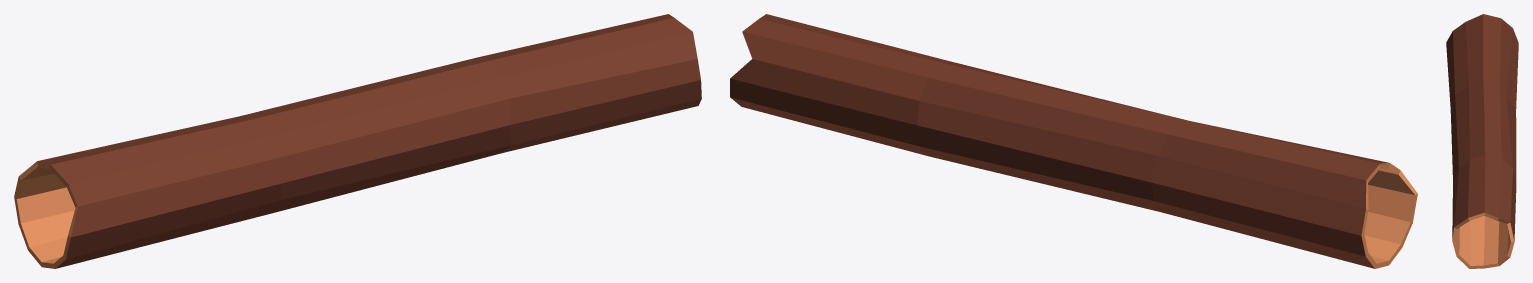
The model's file is pine_trunk_type_10_LOD0.fbx.
3 views of the same model, side by side, from view 1: azimuth 30°, elevation 25°; view 2: azimuth 150°, elevation 25°; view 3: azimuth 270°, elevation 25° (orthographic). The views are drawn at different scales.
Visible parts, largest first — view 1: pt_type_10_save; view 2: pt_type_10_save; view 3: pt_type_10_save.
Part boxes in pixels (left/top/right/bottom): pt_type_10_save: left=14, top=14, right=701, bottom=268; pt_type_10_save: left=730, top=14, right=1417, bottom=268; pt_type_10_save: left=1446, top=14, right=1518, bottom=268.
Bounding box in the file's own units: 807 × 120 × 123.
